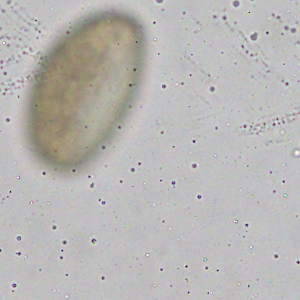Fasciola_hepatica_egg: (25, 7, 145, 171)
